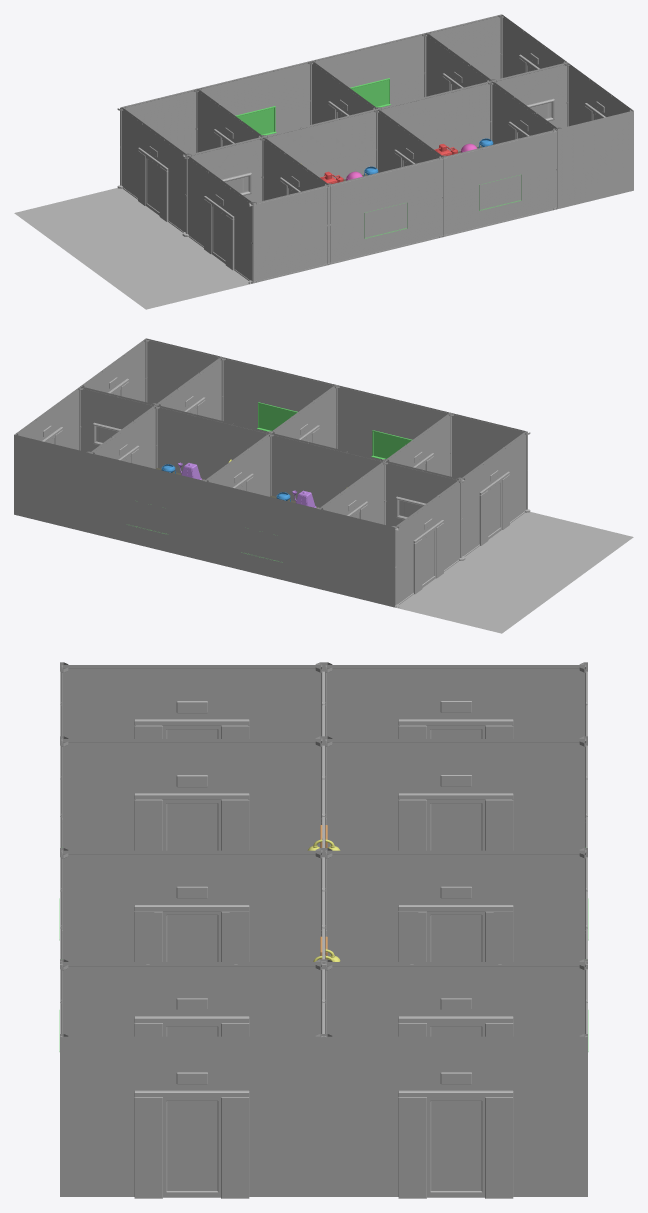
File: Lvl_04_v001_geo.fbx
3 renders of one model, top to bottom at view 1: azimuth 30°, elevation 25°; view 2: azimuth 150°, elevation 25°; view 3: azimuth 270°, elevation 25°, orthographic. The views are drawn at different scales.
Visible parts, largest first — view 1: pPlane43, Floor_01_geo, pPlane45.001, pPlane25, pPlane24.002, pPlane6, pPlane22, pPlane23, pPlane24.001, pPlane15, pPlane14, pPlane20 (+6 smaller); view 2: pPlane25, Floor_01_geo, pPlane45, pPlane43, pPlane24.002, pPlane14, pPlane24.001, pPlane22, pPlane23, pPlane15, pPlane6, pPlane20 (+6 smaller); view 3: pPlane15, pPlane24.001, pPlane23, pPlane24.002, pPlane22, Base_geo8, Base_geo18, Base_geo4.001, Base_geo3.001, Base_geo1, Base_geo2, Door_035 (+15 smaller).
Part boxes in pixels (x1=…): pPlane43: x1=253, y1=130, x2=557, y2=283; Floor_01_geo: x1=14, y1=188, x2=552, y2=309; pPlane45.001: x1=187, y1=81, x2=491, y2=202; pPlane25: x1=121, y1=33, x2=424, y2=154; pPlane24.002: x1=121, y1=107, x2=253, y2=283; pPlane6: x1=557, y1=111, x2=633, y2=208; pPlane22: x1=425, y1=33, x2=557, y2=208; pPlane23: x1=312, y1=61, x2=443, y2=236; pPlane24.001: x1=197, y1=89, x2=327, y2=200; pPlane15: x1=502, y1=15, x2=633, y2=126; pPlane14: x1=426, y1=14, x2=501, y2=79; pPlane20: x1=491, y1=62, x2=567, y2=127; pPlane25: x1=90, y1=453, x2=394, y2=607; Floor_01_geo: x1=396, y1=512, x2=633, y2=633; pPlane45: x1=156, y1=405, x2=460, y2=526; pPlane43: x1=222, y1=357, x2=525, y2=478; pPlane24.002: x1=395, y1=431, x2=526, y2=607; pPlane14: x1=14, y1=435, x2=90, y2=532; pPlane24.001: x1=320, y1=413, x2=450, y2=524; pPlane22: x1=90, y1=357, x2=221, y2=468; pPlane23: x1=205, y1=385, x2=335, y2=496; pPlane15: x1=14, y1=339, x2=145, y2=450; pPlane6: x1=146, y1=338, x2=221, y2=403; pPlane20: x1=80, y1=386, x2=155, y2=451; pPlane15: x1=60, y1=1037, x2=587, y2=1196; pPlane24.001: x1=60, y1=739, x2=587, y2=850; pPlane23: x1=60, y1=851, x2=587, y2=961; pPlane24.002: x1=60, y1=665, x2=587, y2=738; pPlane22: x1=60, y1=962, x2=587, y2=1036; Base_geo8: x1=134, y1=1090, x2=249, y2=1198; Base_geo18: x1=398, y1=1090, x2=513, y2=1198; Base_geo4.001: x1=398, y1=793, x2=513, y2=850; Base_geo3.001: x1=134, y1=793, x2=249, y2=850; Base_geo1: x1=134, y1=905, x2=249, y2=961; Base_geo2: x1=398, y1=905, x2=513, y2=961; Door_035: x1=163, y1=1097, x2=192, y2=1197.
Size of the model in its own units: 2571 by 400 by 1202.
